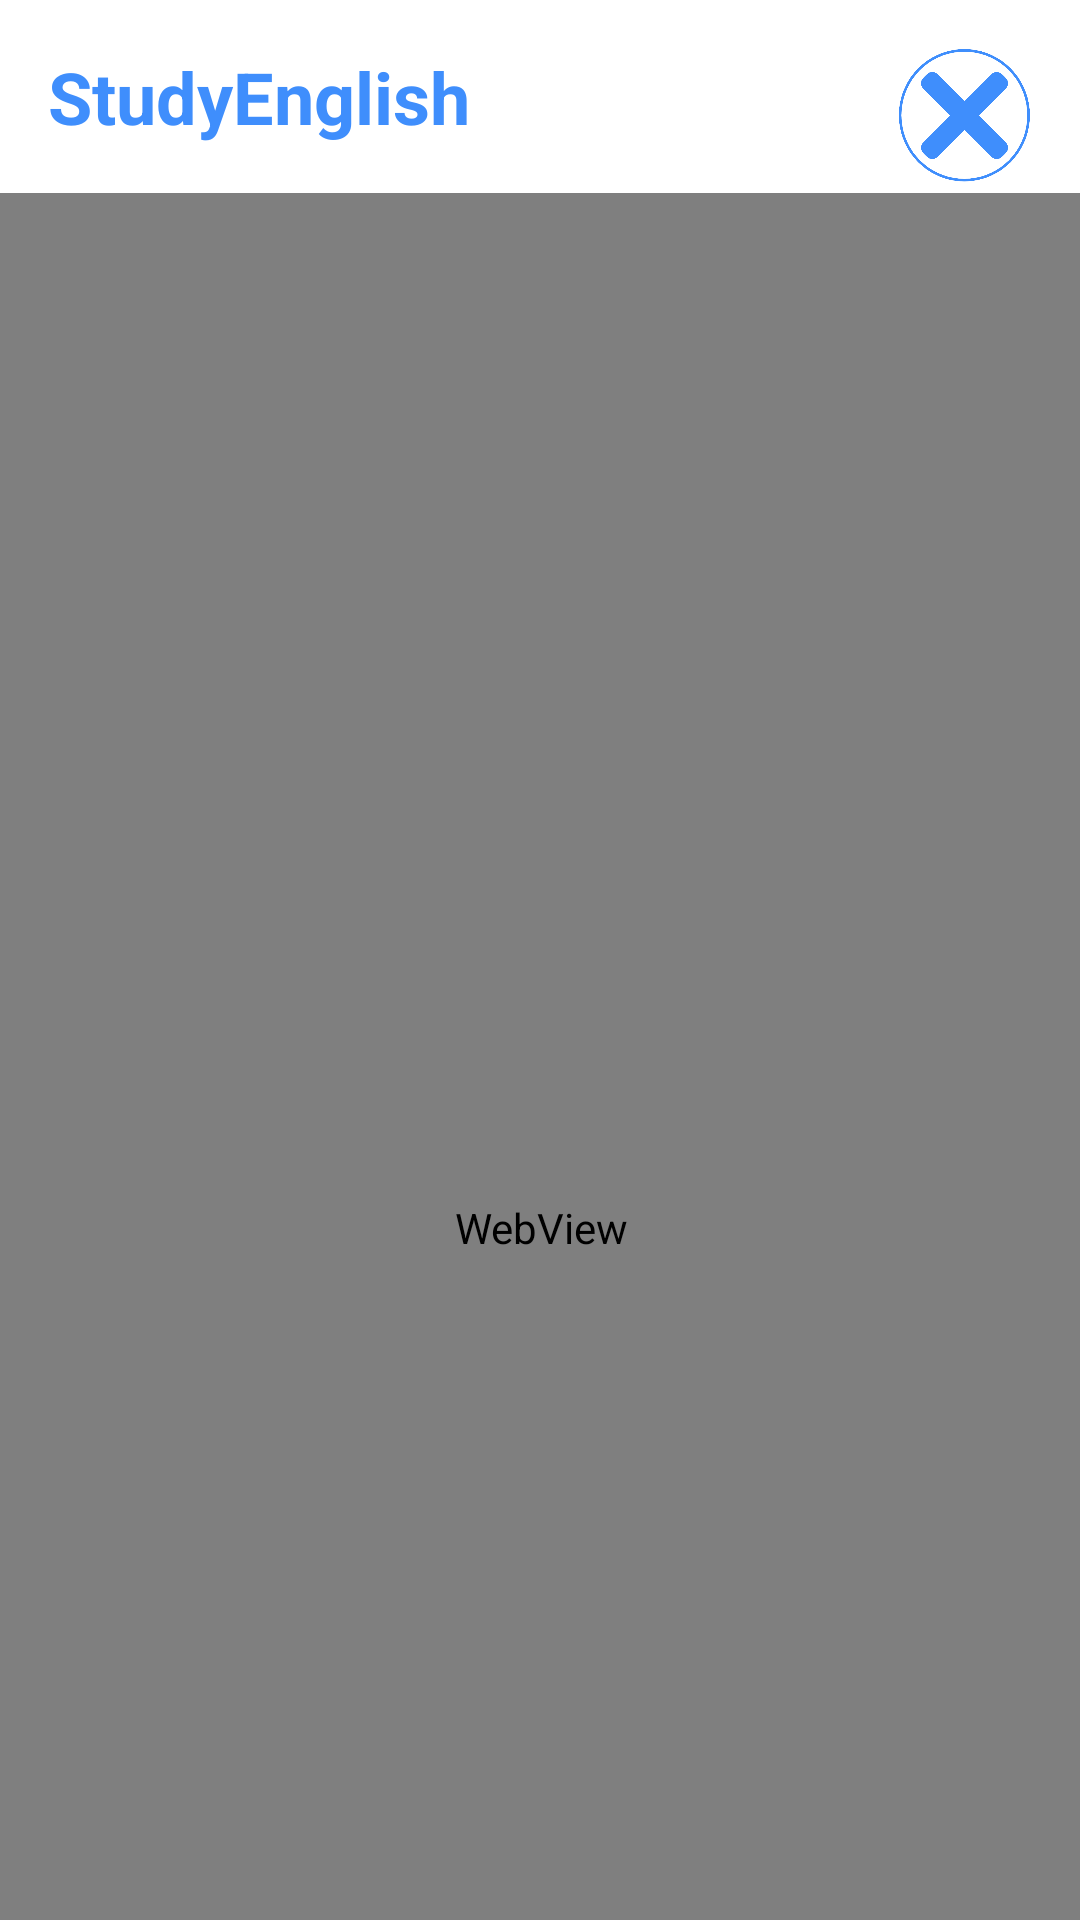

Locate icon controls on the screen. Image size 1080px×1920px, boxes as (x1, y1, x2, y2).
close: (899, 49, 1030, 182)
